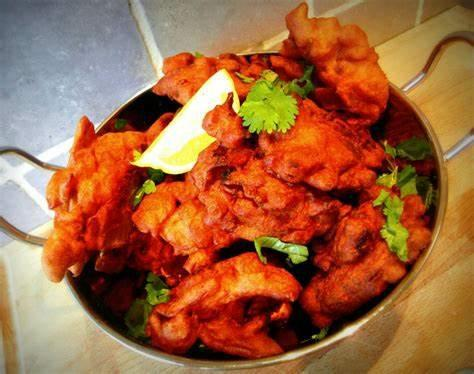OnionPakoda: (42, 2, 435, 358)
